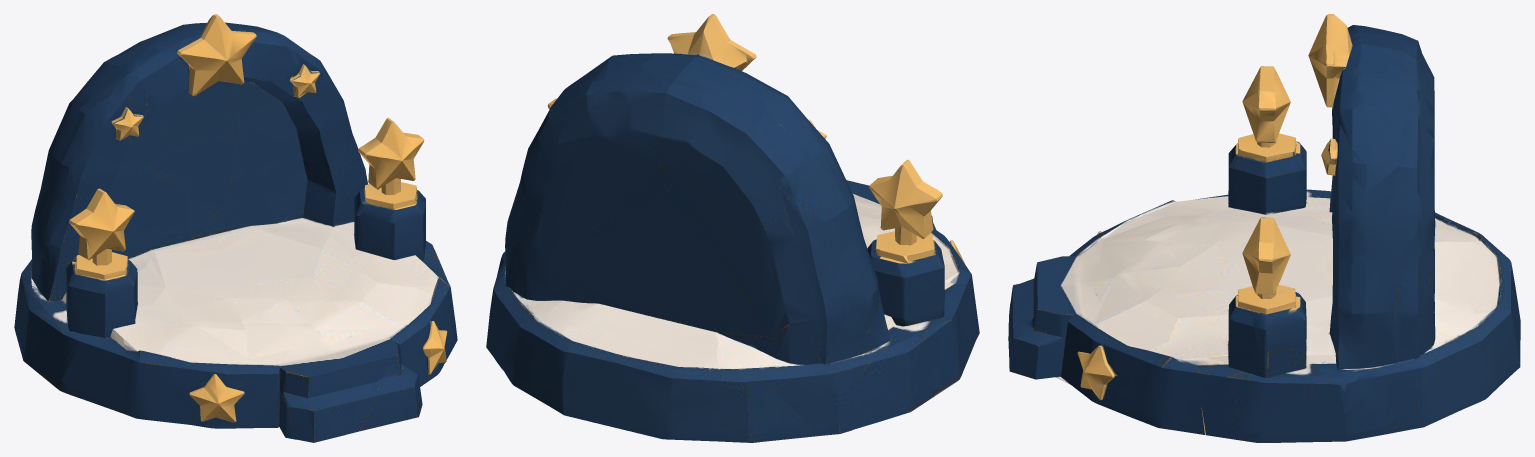
The model's file is festivalStage.glb.
3 renders of one model, left to right at view 1: azimuth 30°, elevation 25°; view 2: azimuth 150°, elevation 25°; view 3: azimuth 270°, elevation 25°, orthographic. The views are drawn at different scales.
Parts seen in each view (by area): view 1: Mesh_0; view 2: Mesh_0; view 3: Mesh_0.
Part boxes in pixels (x1,y1,x2,y2): Mesh_0: (14,14,457,442); Mesh_0: (486,14,979,442); Mesh_0: (1008,14,1520,442).
Size of the model in its own units: 1.84 by 1.42 by 2.
1 material, 1 textured.
